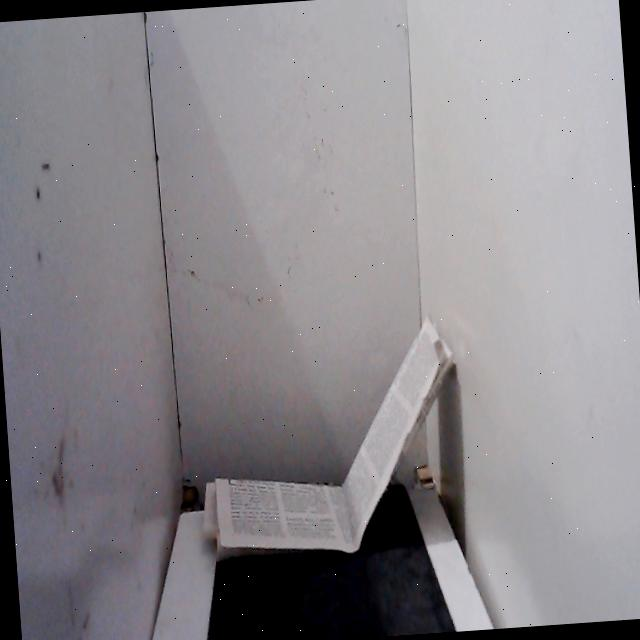papel: (184, 300, 474, 580)
